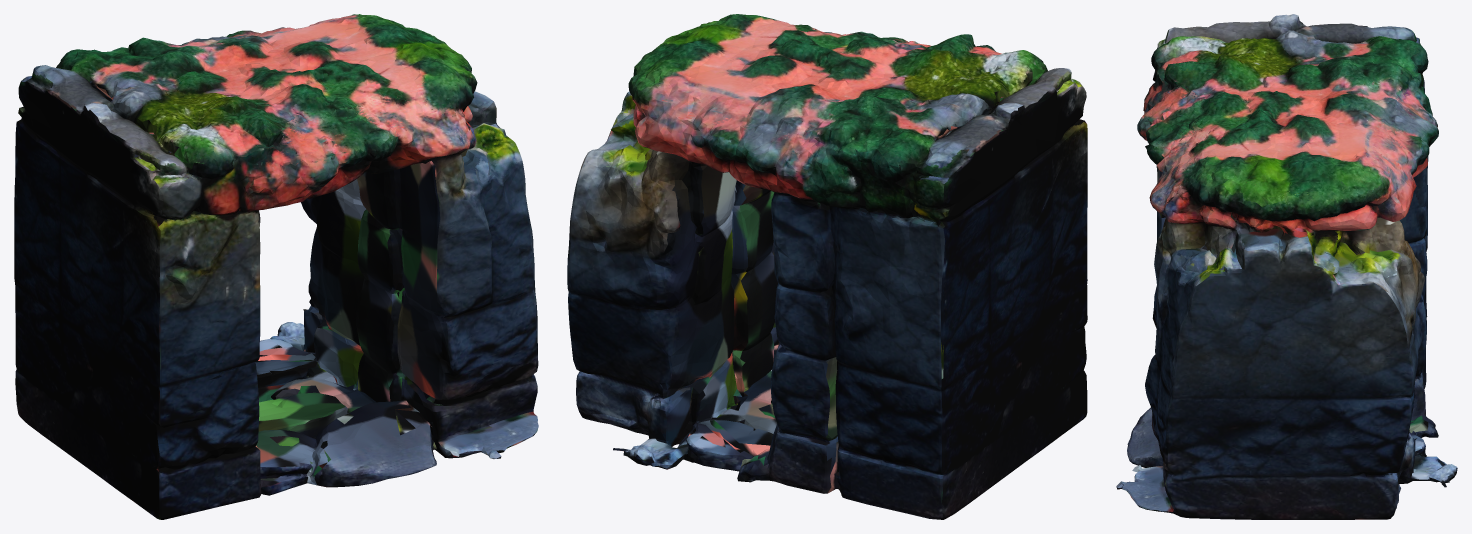
Rendered from mouth_tide_cut_basalts.glb.
3 views of the same model, side by side, from view 1: azimuth 30°, elevation 25°; view 2: azimuth 150°, elevation 25°; view 3: azimuth 270°, elevation 25° (orthographic). The views are drawn at different scales.
Visible parts, largest first — view 1: temp_mesh.ply; view 2: temp_mesh.ply; view 3: temp_mesh.ply.
Boxes of the visible parts, x1=… form: temp_mesh.ply: x1=14, y1=14, x2=538, y2=519; temp_mesh.ply: x1=567, y1=14, x2=1087, y2=519; temp_mesh.ply: x1=1116, y1=14, x2=1457, y2=519.
Size of the model in its own units: 1.98 by 1.82 by 1.64.
1 material, 1 textured.
